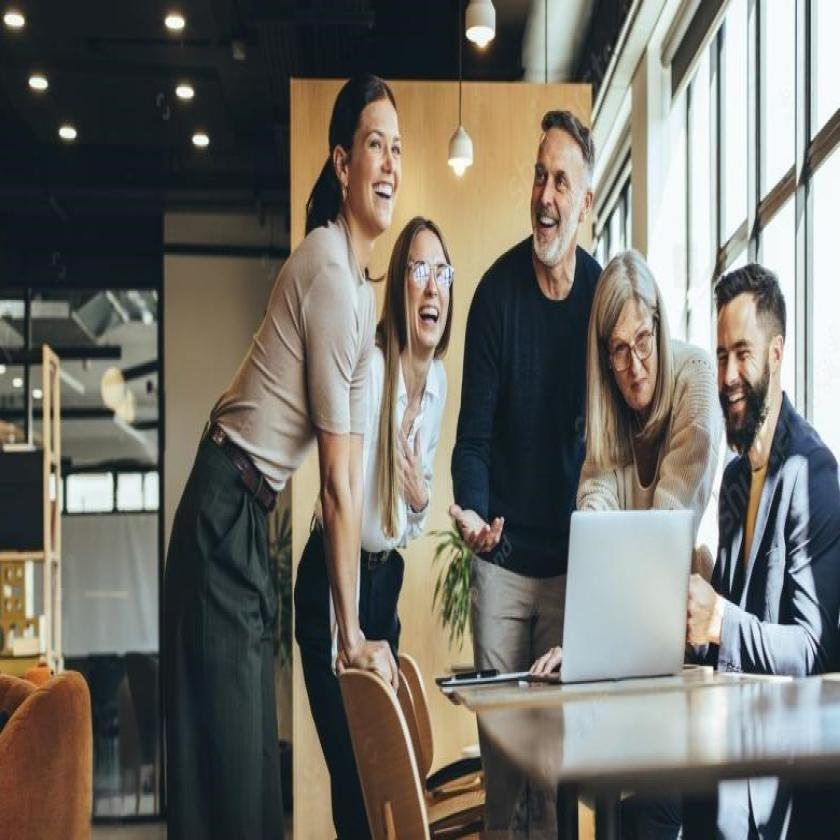Sin_casco: (704, 261, 792, 461), (596, 251, 668, 426), (331, 73, 407, 238), (528, 106, 598, 270), (390, 214, 458, 371)
